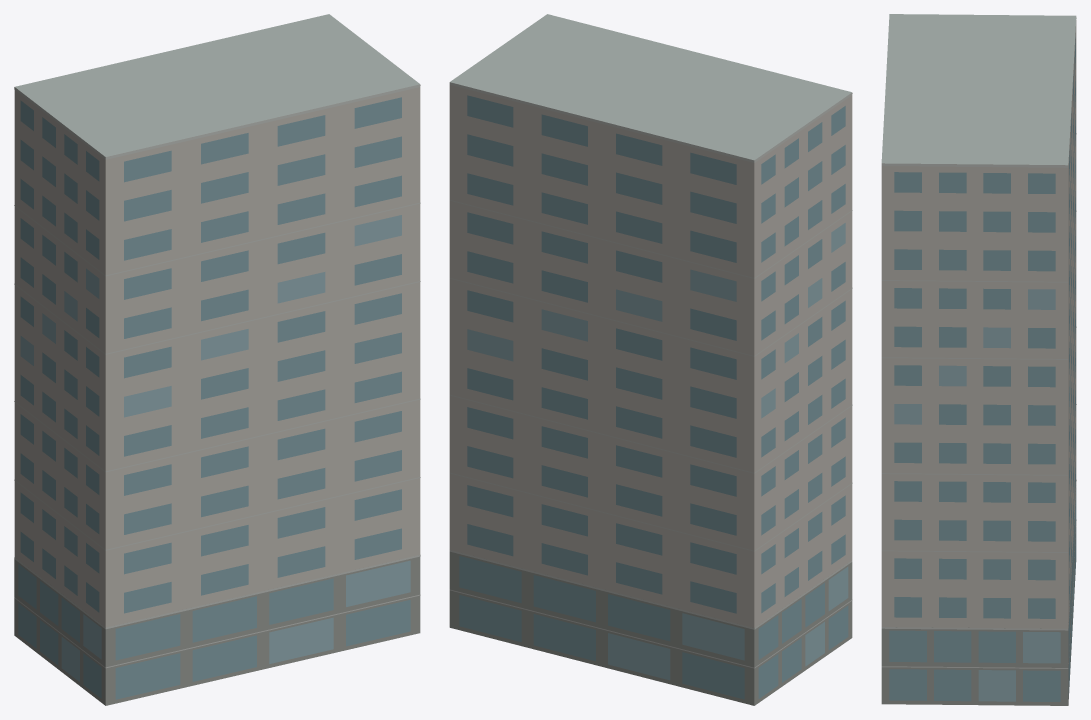
File: residential-70358789-c60e-48ab-9fa0-1cbd0fdcf38b.glb
3 views of the same model, side by side, from view 1: azimuth 30°, elevation 25°; view 2: azimuth 150°, elevation 25°; view 3: azimuth 270°, elevation 25° (orthographic).
Visible parts, largest first — view 1: residential-70358789-c60e-48ab-9fa0-1cbd0fdcf38b.tmp; view 2: residential-70358789-c60e-48ab-9fa0-1cbd0fdcf38b.tmp; view 3: residential-70358789-c60e-48ab-9fa0-1cbd0fdcf38b.tmp.
Part boxes in pixels (x1=…): residential-70358789-c60e-48ab-9fa0-1cbd0fdcf38b.tmp: x1=14, y1=14, x2=420, y2=705; residential-70358789-c60e-48ab-9fa0-1cbd0fdcf38b.tmp: x1=449, y1=14, x2=852, y2=705; residential-70358789-c60e-48ab-9fa0-1cbd0fdcf38b.tmp: x1=881, y1=14, x2=1076, y2=705.
Size of the model in its own units: 29.4 by 49 by 16.02.
